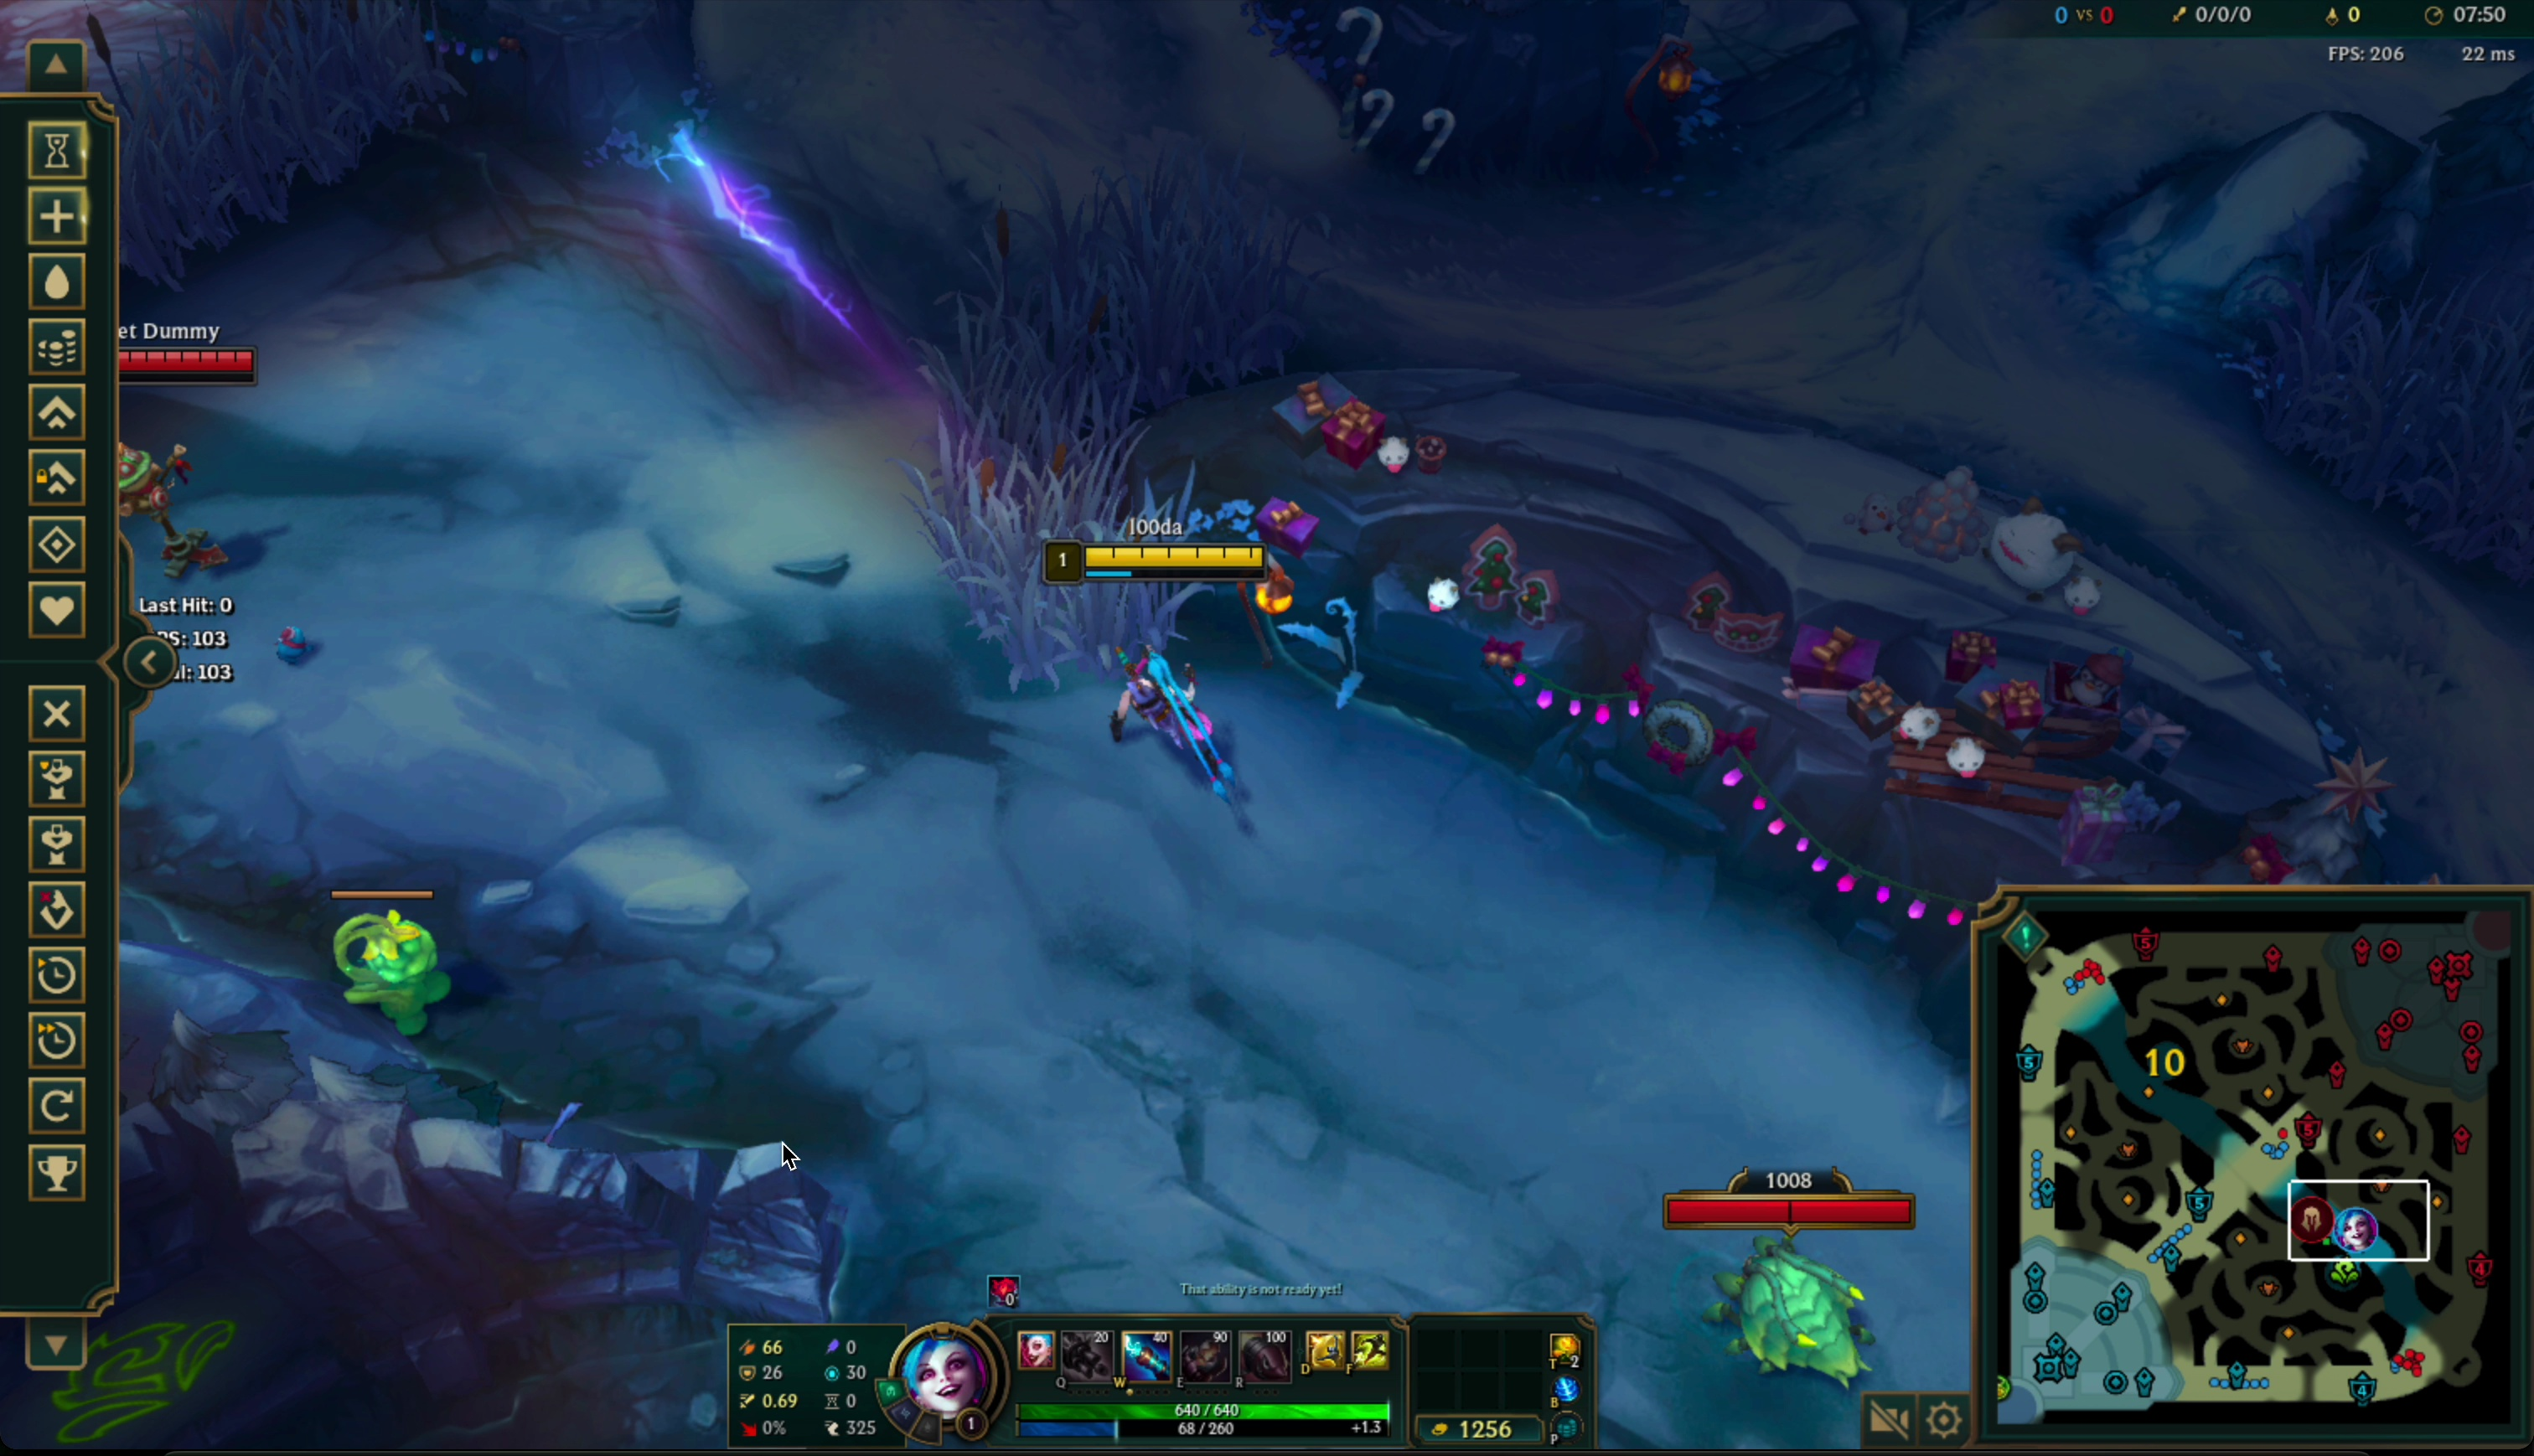JINX_W_PROJECTILE: (588, 77, 954, 371)
